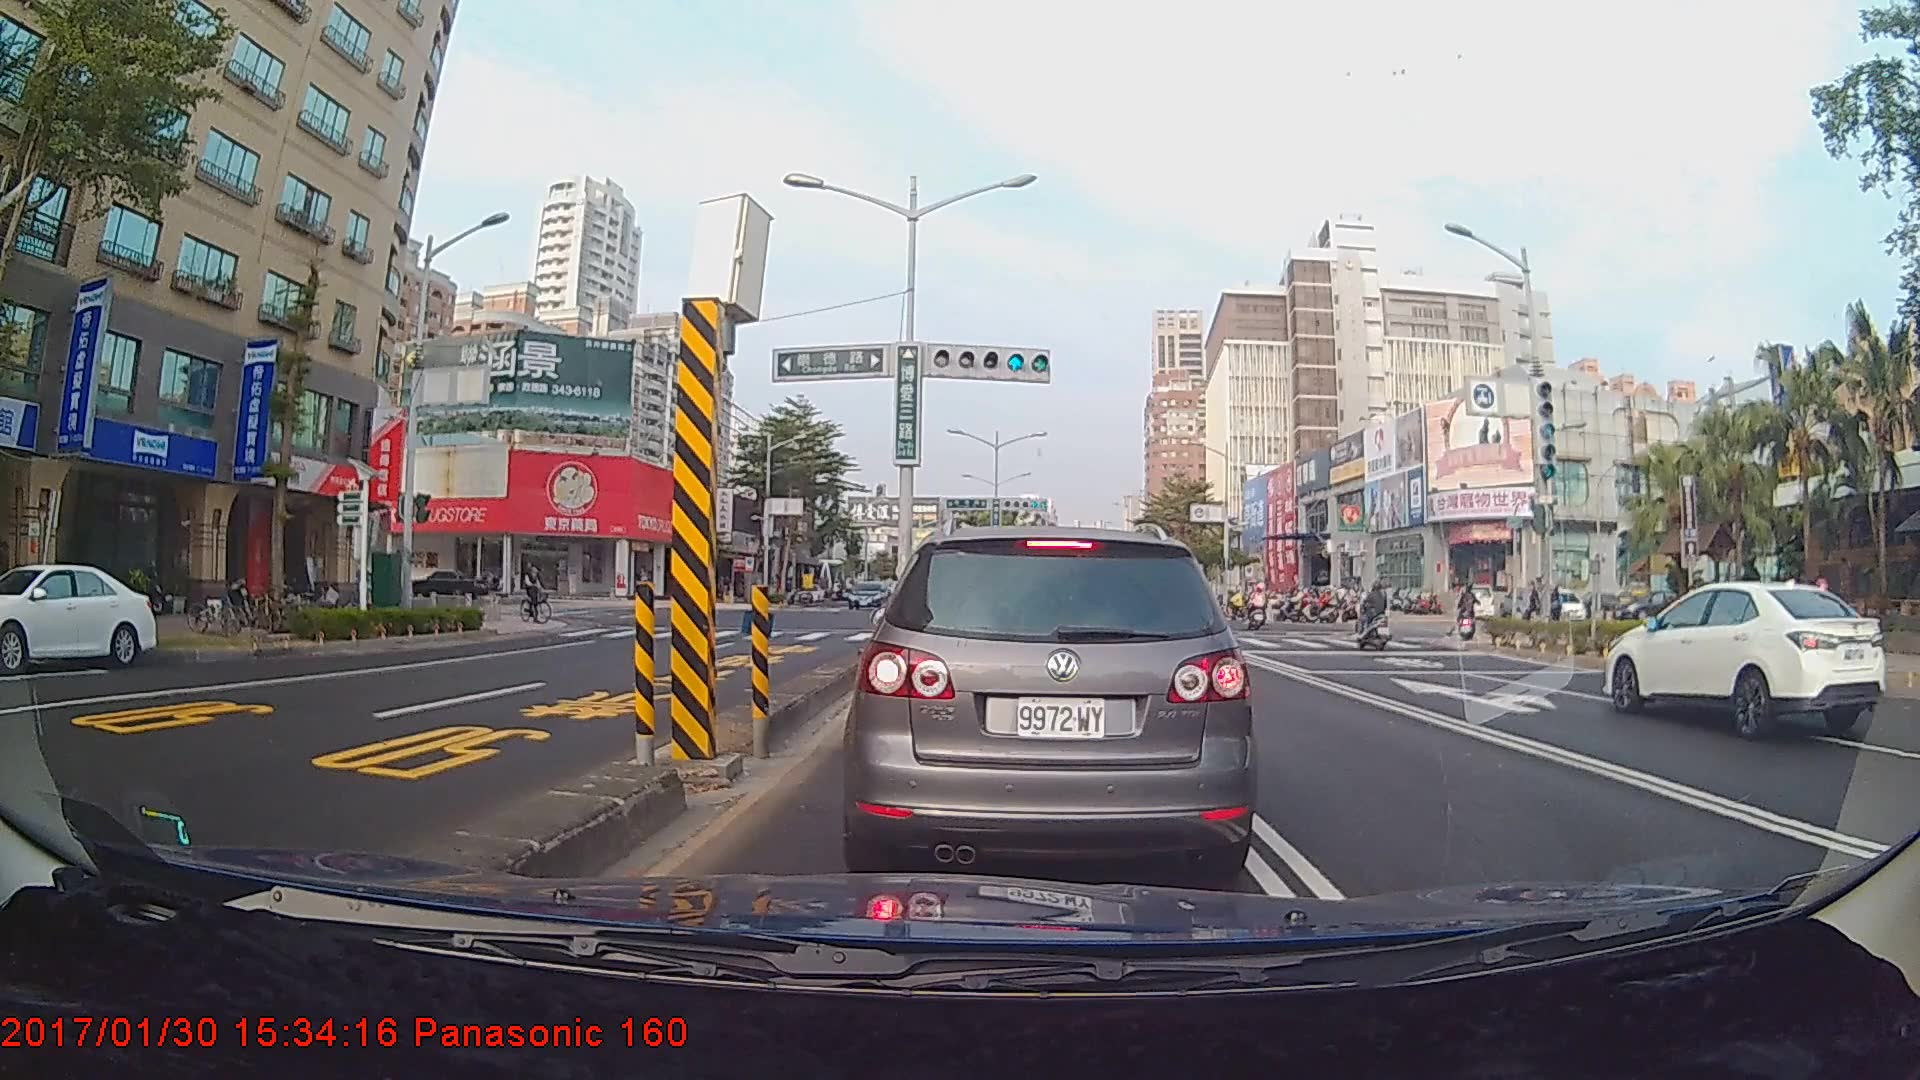rider: (1351, 580, 1400, 652), (518, 559, 561, 629), (1449, 582, 1479, 646), (1246, 580, 1272, 636)
vehicle: (852, 520, 1250, 881), (1599, 579, 1888, 741), (0, 561, 158, 671), (405, 568, 490, 601), (846, 581, 884, 609)
